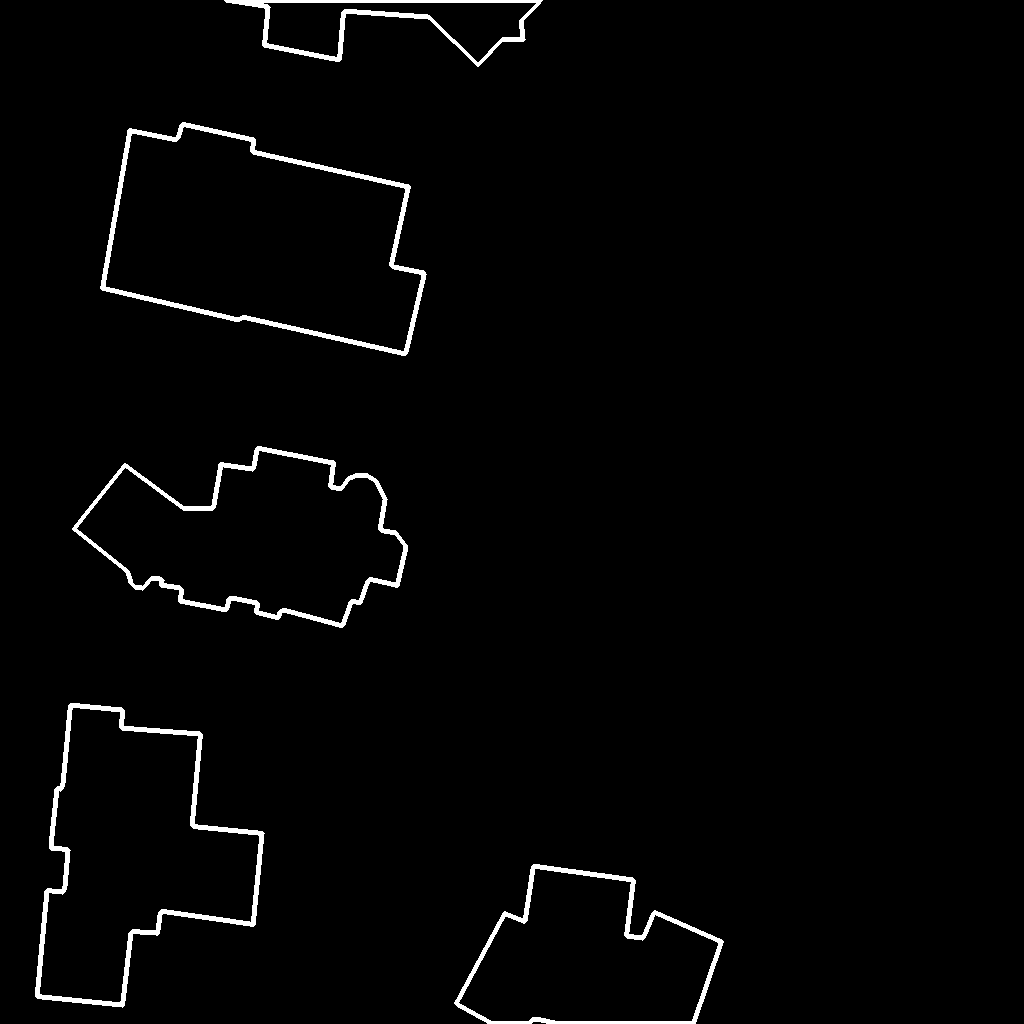building: (102, 124, 425, 355), (37, 705, 263, 1006), (74, 448, 407, 627), (456, 866, 723, 1024), (223, 0, 543, 66)
